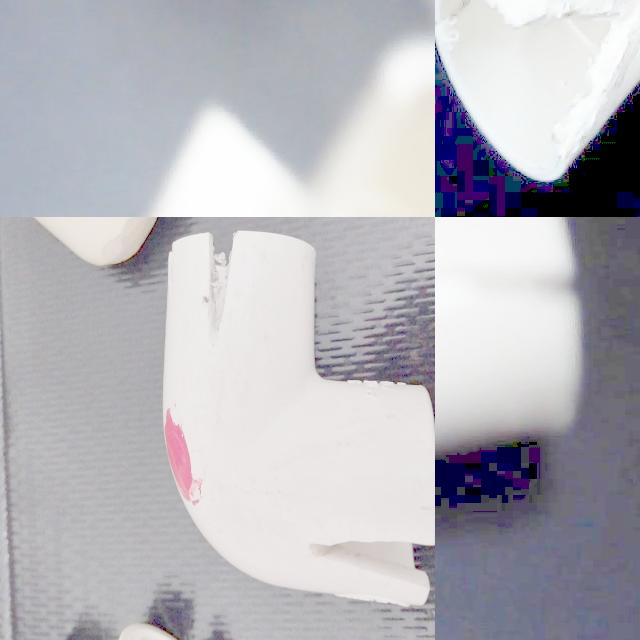Defective: (491, 0, 621, 164), (304, 107, 424, 217), (446, 238, 570, 318), (443, 0, 579, 55), (109, 480, 198, 538), (253, 217, 287, 265), (0, 441, 55, 470)
L Joint: (165, 217, 340, 494), (0, 431, 203, 640)
T Joint: (435, 217, 640, 640)
